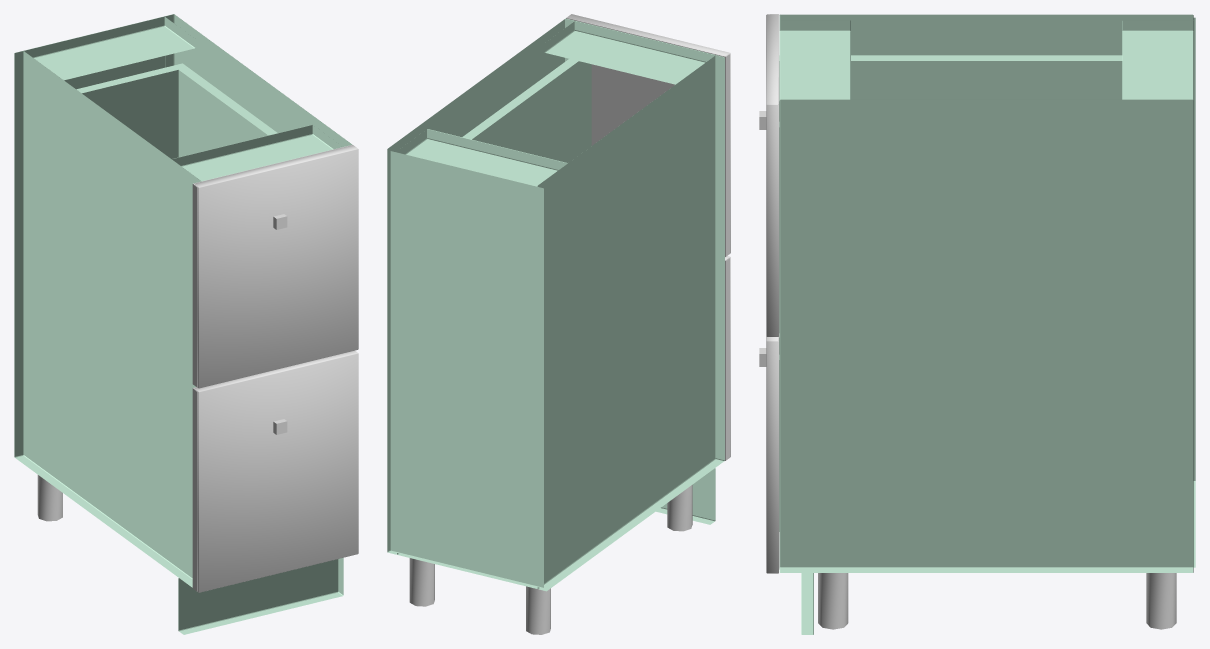
The model's file is M_2YNSD_1.glb.
The picture shows the model from 3 angles, left to right: view 1: azimuth 30°, elevation 25°; view 2: azimuth 150°, elevation 25°; view 3: azimuth 270°, elevation 25°; orthographic projection. The views are drawn at different scales.
Parts seen in each view (by area): view 1: M_2YNSD_1, M_UMM_1_F, M_UMM_1_F.1, M_2YNSD_1_F_1, M_UMM_1_F_C, M_UMM_1_F_C.1, Legs.012; view 2: M_2YNSD_1, M_2YNSD_1_F_1, M_UMM_1_F_A, Legs.012, M_UMM_1_F, M_UMM_1_F_C, M_UMM_1_F_C.1, M_UMM_1_F_B; view 3: M_2YNSD_1, M_2YNSD_1_F_1, M_UMM_1_F, Legs.012, M_UMM_1_F.1.
Boxes of the visible parts, box(x1,y1,x2,y2) form: M_2YNSD_1: box(14, 14, 352, 634); M_UMM_1_F: box(194, 145, 358, 388); M_UMM_1_F.1: box(194, 350, 358, 592); M_2YNSD_1_F_1: box(76, 63, 277, 158); M_UMM_1_F_C: box(192, 184, 197, 386); M_UMM_1_F_C.1: box(192, 389, 197, 590); Legs.012: box(37, 475, 62, 521); M_2YNSD_1: box(387, 18, 724, 591); M_2YNSD_1_F_1: box(462, 59, 591, 163); M_UMM_1_F_A: box(566, 18, 728, 145); Legs.012: box(409, 485, 692, 634); M_UMM_1_F: box(566, 14, 730, 253); M_UMM_1_F_C: box(726, 54, 729, 256); M_UMM_1_F_C.1: box(726, 258, 729, 459); M_UMM_1_F_B: box(646, 37, 729, 256); M_2YNSD_1: box(779, 14, 1195, 634); M_2YNSD_1_F_1: box(779, 55, 1122, 531); M_UMM_1_F: box(766, 14, 778, 336); Legs.012: box(818, 573, 1176, 629); M_UMM_1_F.1: box(766, 337, 778, 573).
Size of the model in its own units: 3.15 by 8.61 by 6.41.
